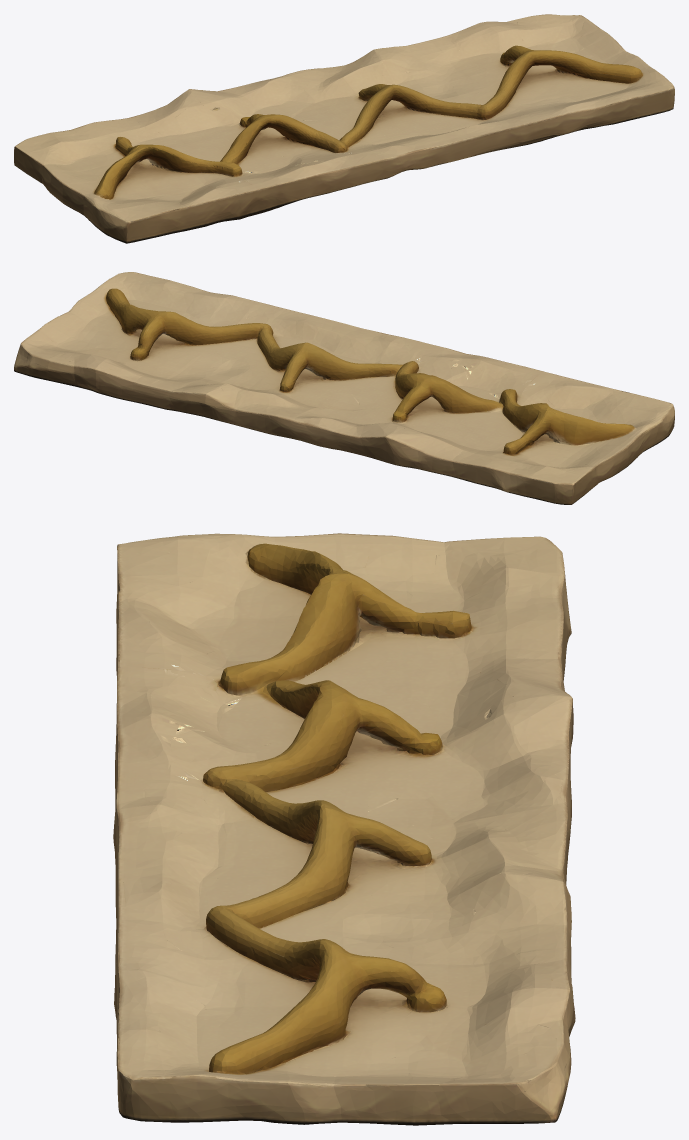
The picture shows the model from 3 angles, top to bottom: view 1: azimuth 30°, elevation 25°; view 2: azimuth 150°, elevation 25°; view 3: azimuth 270°, elevation 25°; orthographic projection. The views are drawn at different scales.
Visible parts, largest first — view 1: geometry_0; view 2: geometry_0; view 3: geometry_0.
Boxes of the visible parts, <box> form: geometry_0: <box>14,14,674,243</box>; geometry_0: <box>14,272,674,504</box>; geometry_0: <box>113,533,575,1125</box>.
Bounding box in the file's own units: 0.16 × 0.0139 × 0.0566.
1 material, 1 textured.
